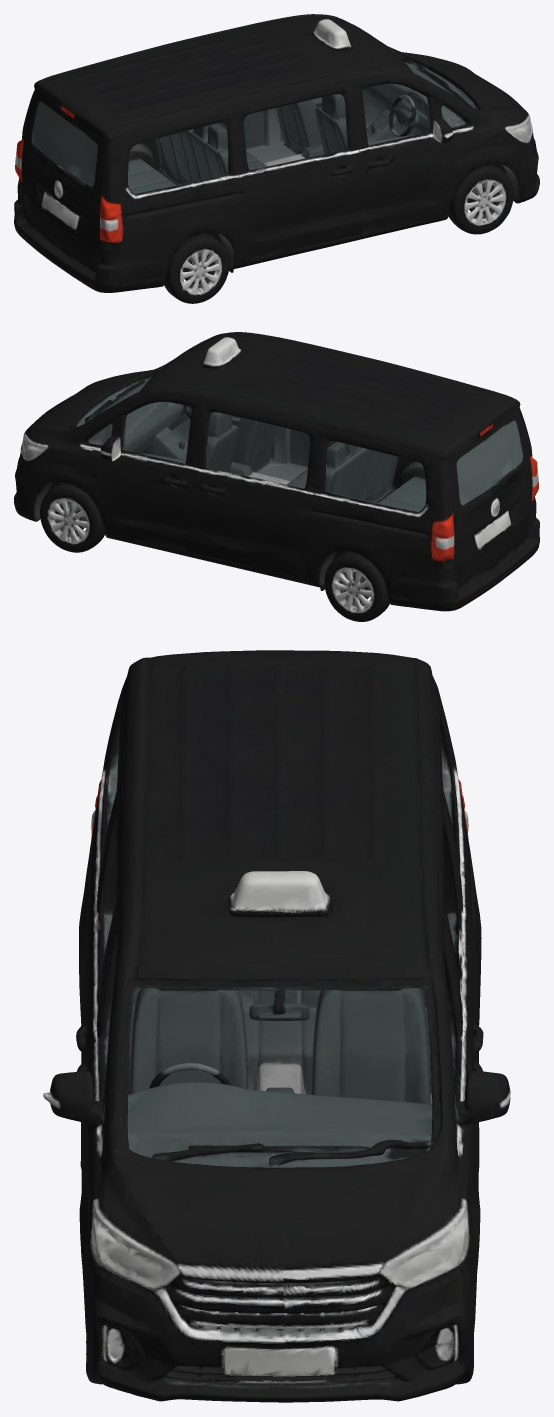
Rendered from van.glb.
3 views of the same model, one above another, from view 1: azimuth 30°, elevation 25°; view 2: azimuth 150°, elevation 25°; view 3: azimuth 270°, elevation 25° (orthographic). The views are drawn at different scales.
Visible parts, largest first — view 1: tripo_node_6f0abe9d-5b7e-47fb-a614-a2cdc75c79df; view 2: tripo_node_6f0abe9d-5b7e-47fb-a614-a2cdc75c79df; view 3: tripo_node_6f0abe9d-5b7e-47fb-a614-a2cdc75c79df.
Part boxes in pixels (box(x1,y1,x2,y2)): tripo_node_6f0abe9d-5b7e-47fb-a614-a2cdc75c79df: box(14, 14, 539, 303); tripo_node_6f0abe9d-5b7e-47fb-a614-a2cdc75c79df: box(14, 332, 539, 621); tripo_node_6f0abe9d-5b7e-47fb-a614-a2cdc75c79df: box(43, 650, 510, 1402).
Size of the model in its own units: 1 by 0.4131 by 0.4362.
Materials: 1 (1 with a texture image).
